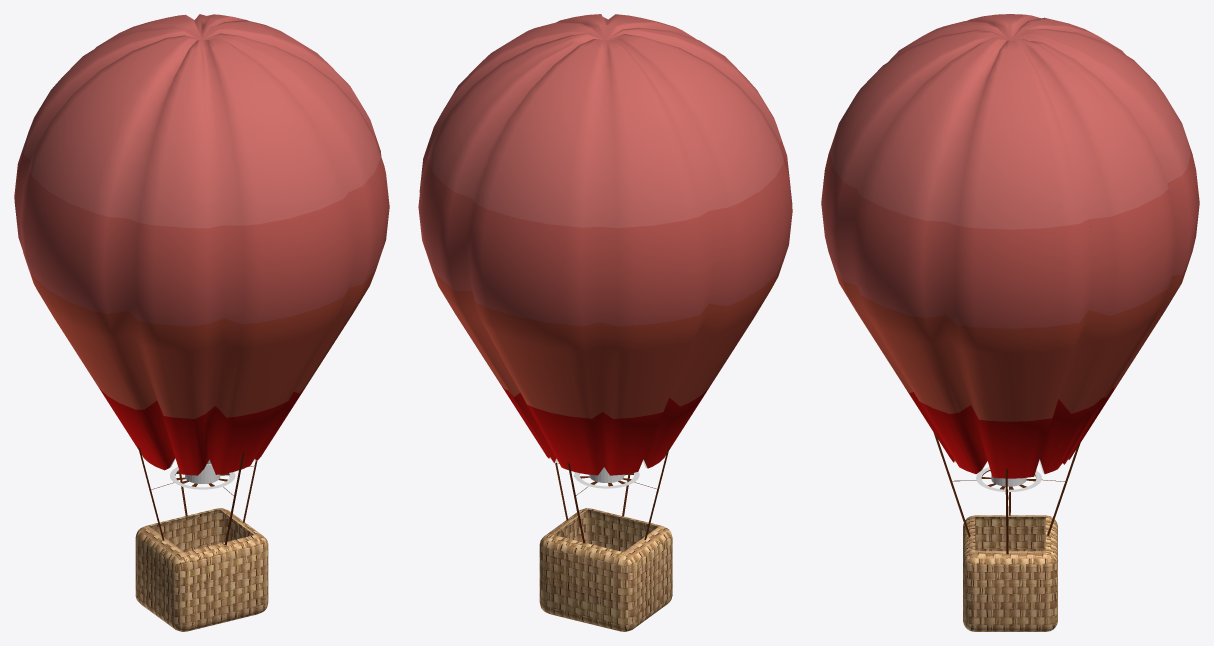
File: ballon_final_verison - Copy.gltf
3 views of the same model, side by side, from view 1: azimuth 30°, elevation 25°; view 2: azimuth 150°, elevation 25°; view 3: azimuth 270°, elevation 25° (orthographic).
Parts seen in each view (by area): view 1: Circle.001, Circle.011; view 2: Circle.001, Circle.011; view 3: Circle.001, Circle.011.
Part boxes in pixels (bbox=[...]): Circle.001: bbox=[14, 14, 389, 475]; Circle.011: bbox=[135, 445, 268, 631]; Circle.001: bbox=[418, 14, 792, 475]; Circle.011: bbox=[539, 445, 672, 631]; Circle.001: bbox=[821, 14, 1199, 478]; Circle.011: bbox=[933, 432, 1080, 631].
Size of the model in its own units: 7.07 by 11.95 by 7.07.
Materials: 8 (1 with a texture image).
